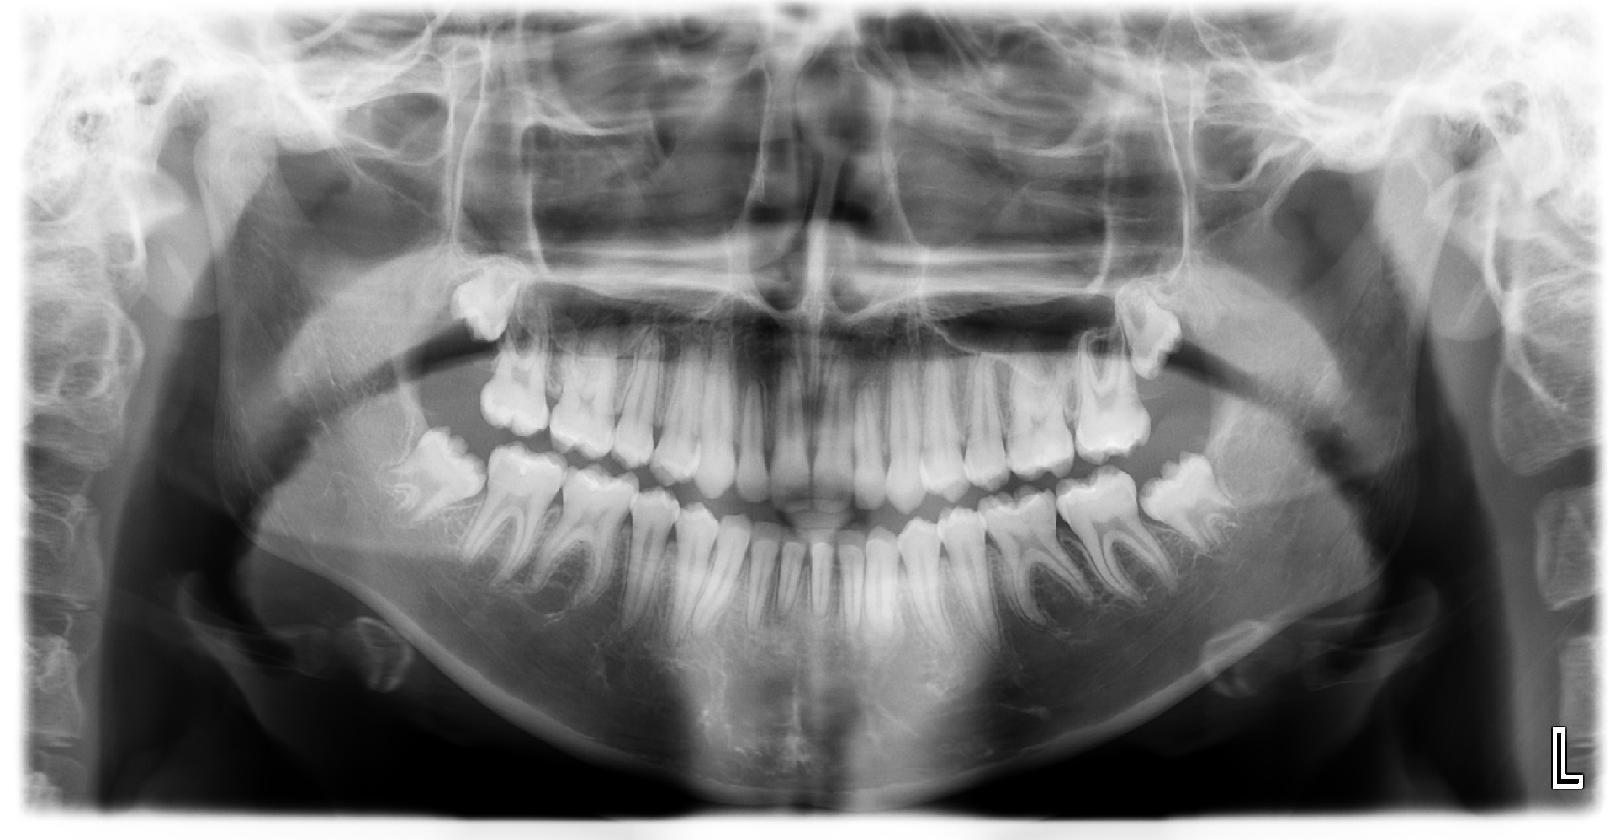Mesio-angular: (380, 429, 492, 555), (1144, 446, 1252, 559)
